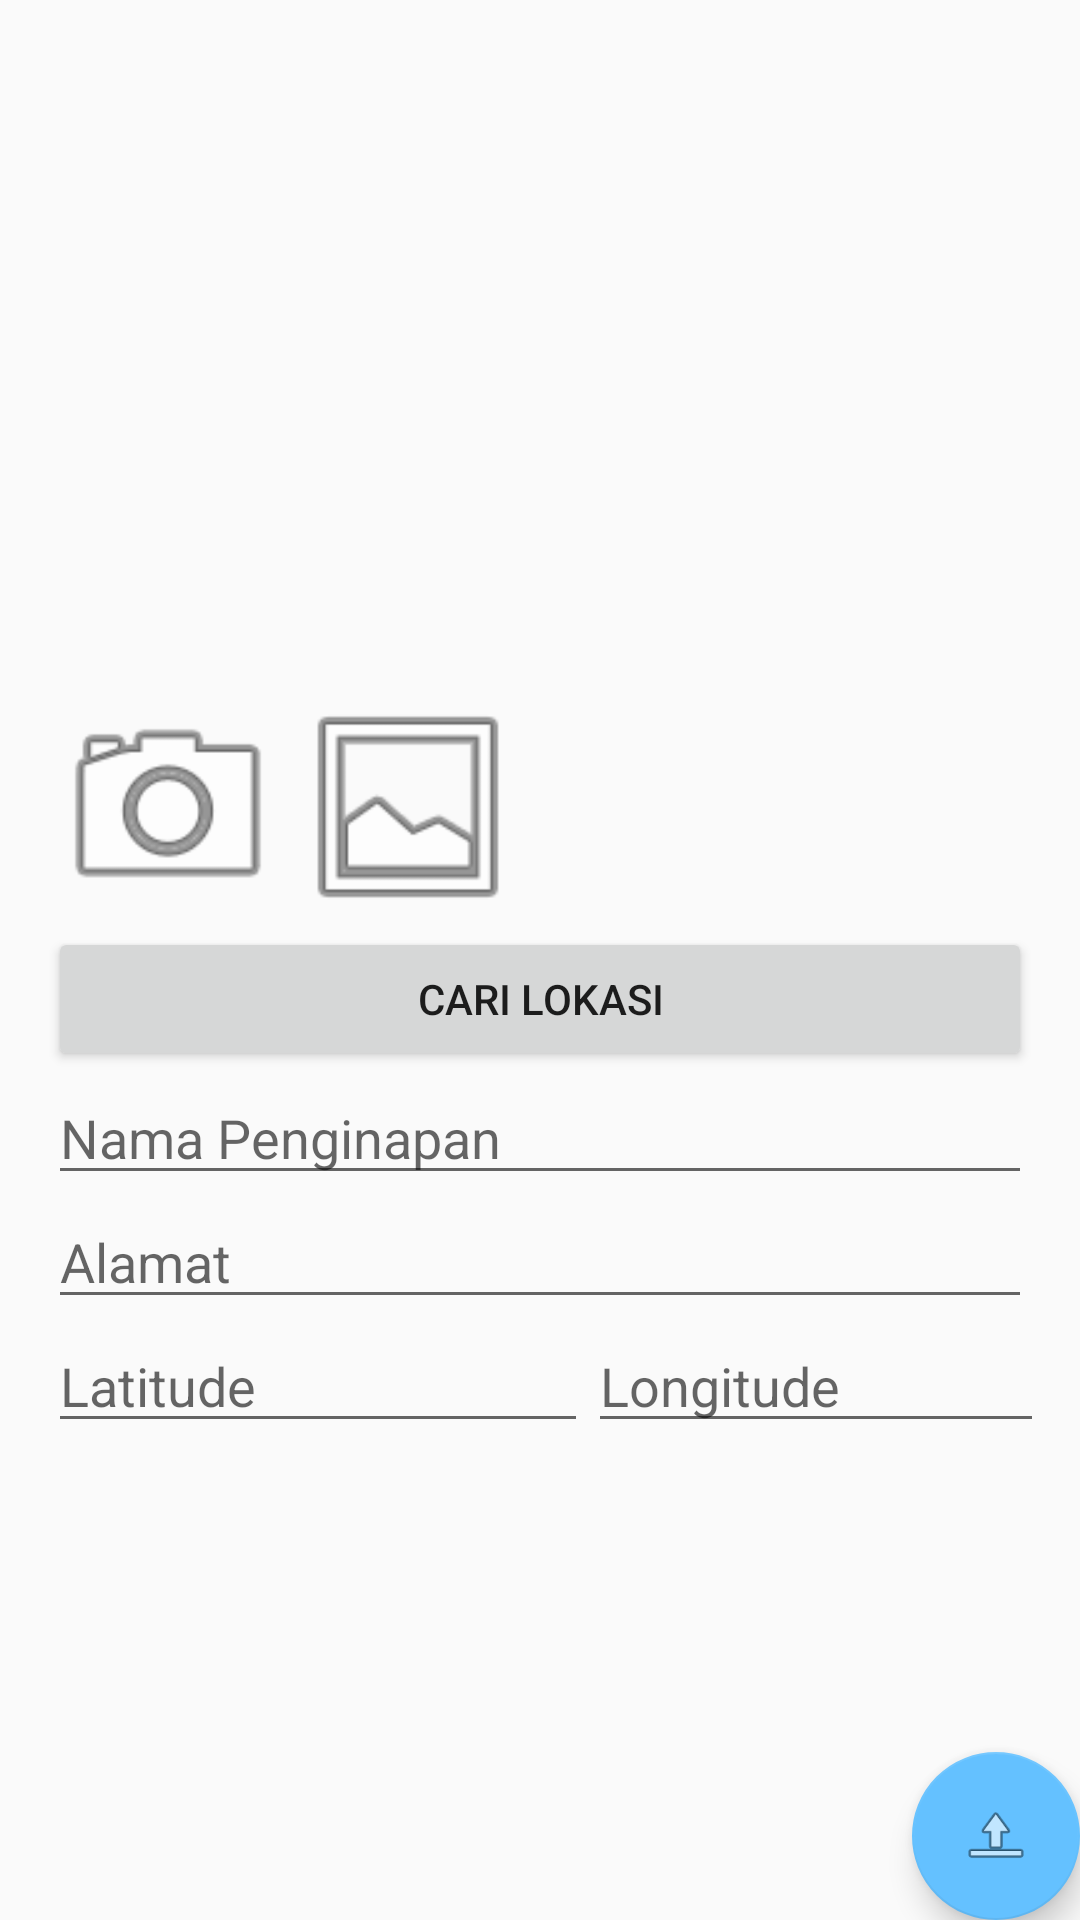

Named icons in this screenshot (1080*1920) and their bounding boxes, Rect(x1, y1, x2, y2):
camera: Rect(75, 729, 261, 877)
gallery: Rect(317, 716, 499, 898)
upload: Rect(912, 1752, 1080, 1920)
